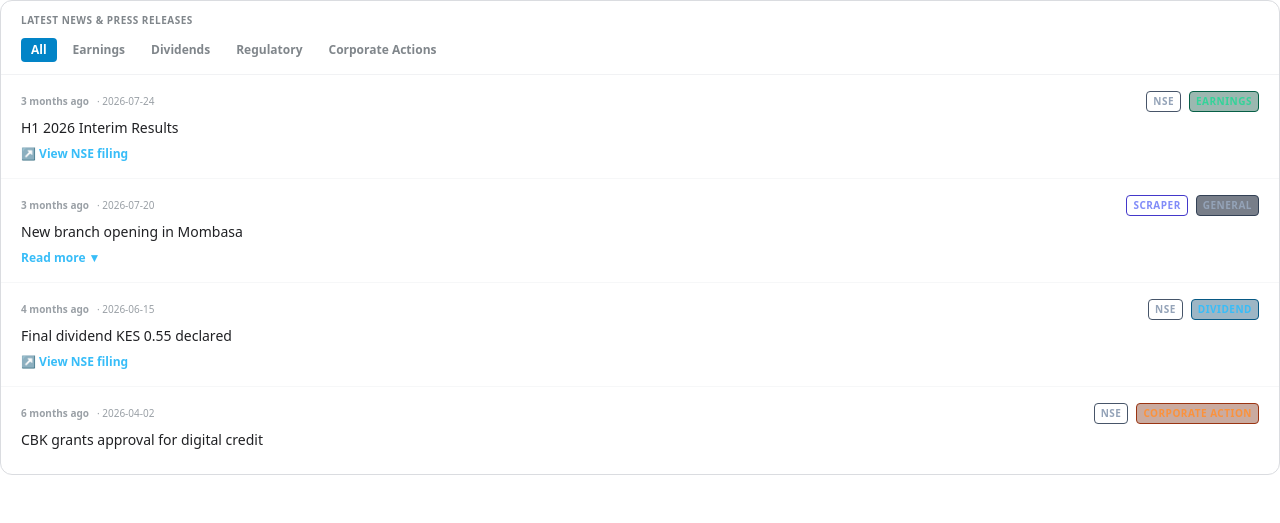
Test: NewsPanel › expands inline body on Read more click
The image size is (1280, 523).
What coordinates should you click on to do the following:
click the button "Read more ▼"
I would click on:
 (61, 258)
Its box is [21,250,100,266].
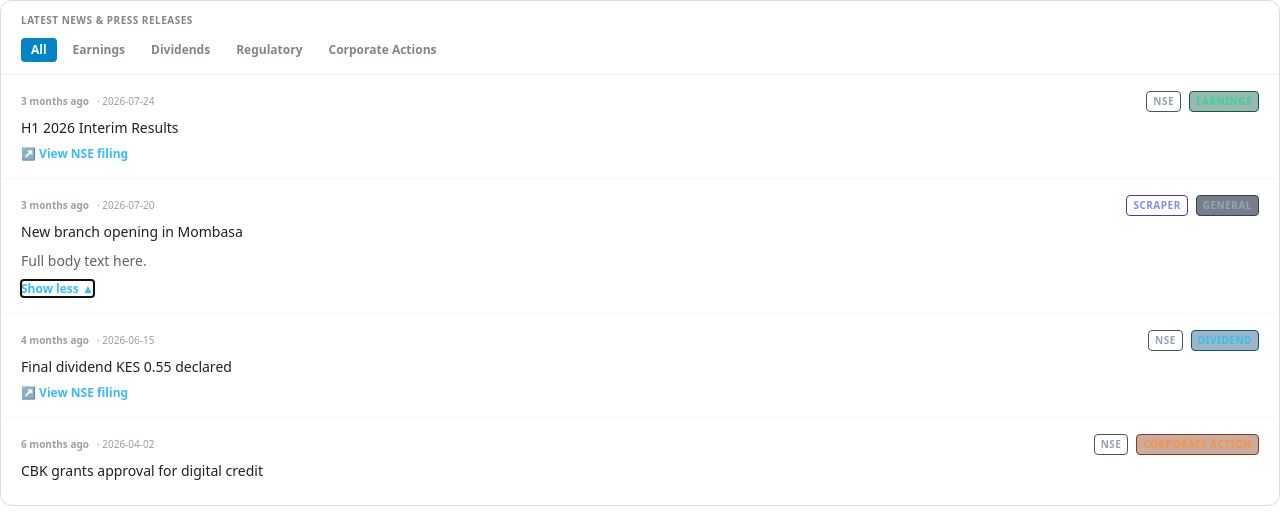
Check: the text "Full body text here." is shown, box [21,251,147,270]
